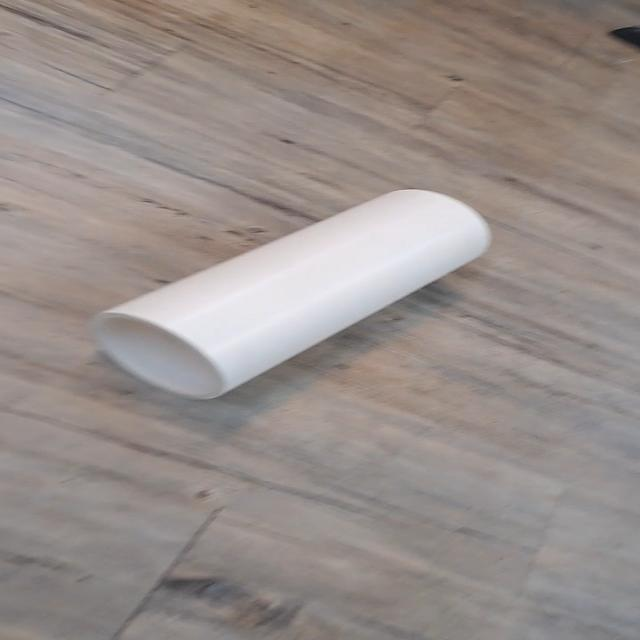CORAL: (78, 172, 508, 401)
